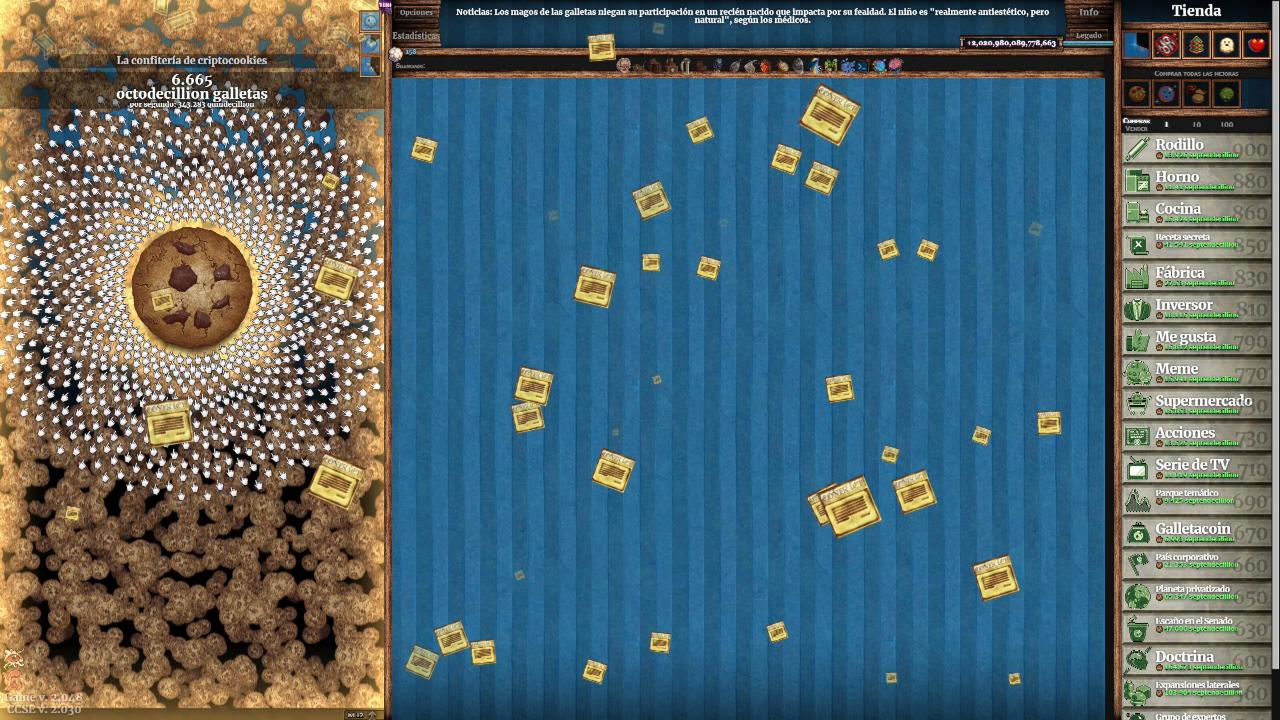GoldenCartridge: (816, 474, 884, 542), (798, 82, 864, 150), (305, 452, 366, 511), (142, 396, 194, 449), (971, 552, 1023, 604), (312, 255, 362, 304), (589, 446, 639, 495), (892, 467, 939, 517), (571, 264, 619, 310), (804, 480, 850, 528), (629, 178, 676, 223), (514, 364, 556, 406), (403, 643, 442, 683), (802, 158, 842, 197), (433, 619, 471, 658), (510, 398, 548, 436), (768, 141, 804, 176), (824, 371, 856, 406), (684, 114, 716, 146), (409, 134, 440, 166), (580, 656, 611, 688), (586, 32, 617, 64), (469, 637, 499, 668), (694, 253, 724, 283), (1035, 409, 1064, 437), (150, 285, 177, 314), (764, 619, 791, 645), (916, 236, 941, 264), (877, 236, 902, 262), (648, 629, 672, 656), (970, 423, 994, 448), (640, 252, 663, 274), (319, 170, 341, 191), (880, 443, 901, 465), (1026, 219, 1046, 238), (64, 503, 83, 522), (651, 20, 668, 36), (1007, 670, 1024, 686), (884, 670, 900, 686)
